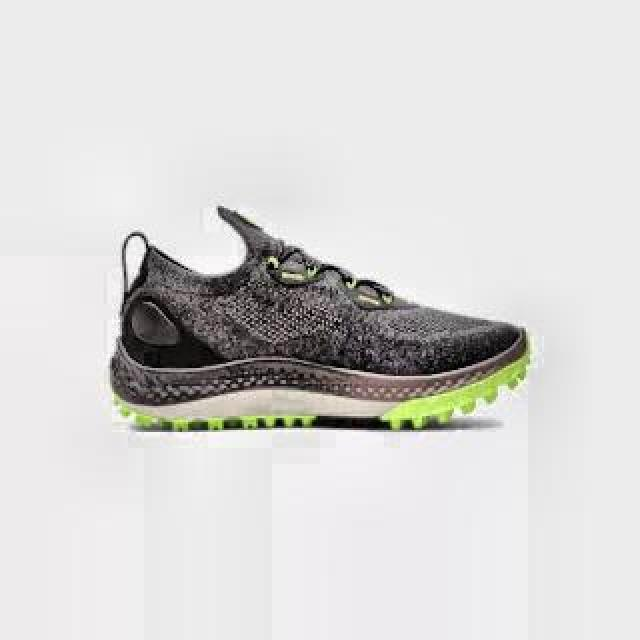shoe: (108, 204, 532, 432)
